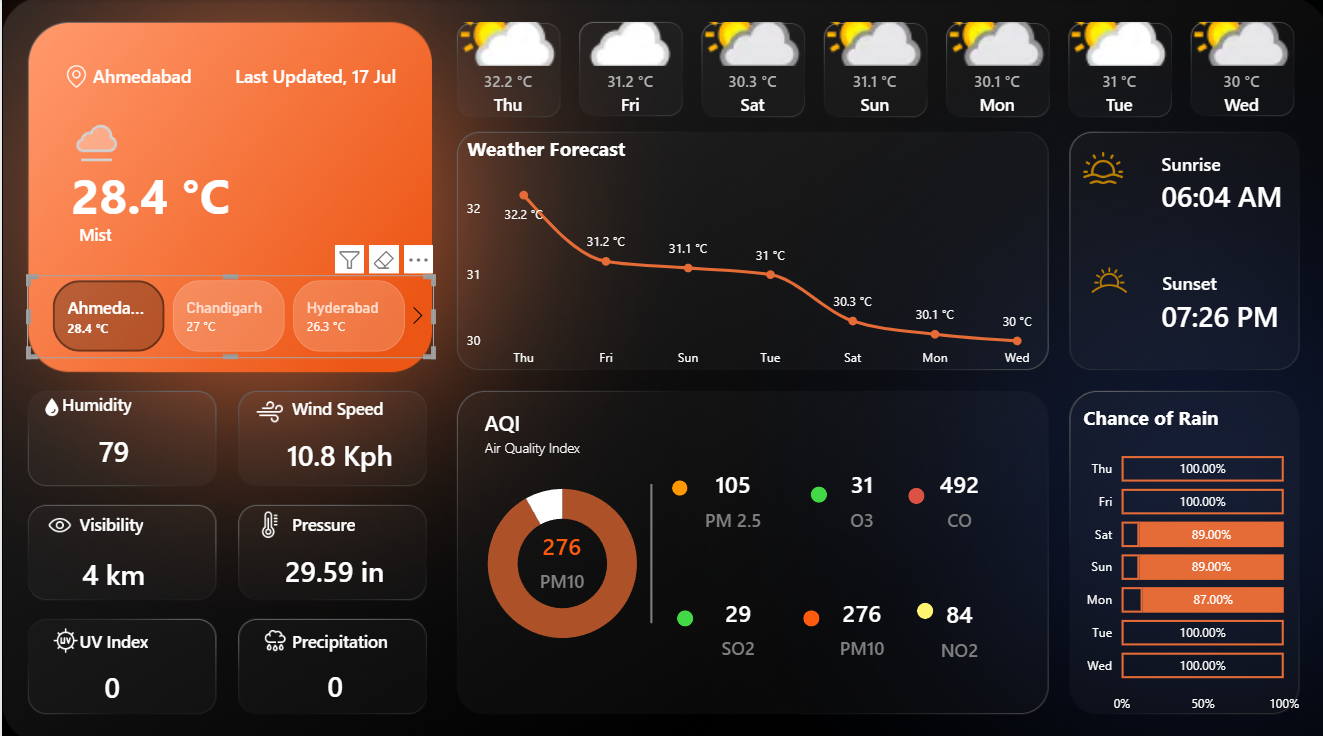

The page's visual inventory and layout, read from the dashboard file:
{"tool":"powerbi","page":{"name":"Page 1","canvas":[1280,720],"ordinal":0},"visuals":[{"type":"advancedSlicerVisual","fields":{"Values":["Locations.location.name"]},"box":[24.7,266.2,392.5,79.6],"z":0},{"type":"shape","box":[61.4,150,195.7,77.1],"z":1000},{"type":"shape","box":[71.4,205.7,314.3,41.4],"z":2000},{"type":"shape","box":[84.3,52.9,111.4,41.4],"z":3000},{"type":"image","box":[48.6,58.6,47.1,31.4],"z":4000},{"type":"shape","box":[221.4,52.9,164.3,41.4],"z":5000},{"type":"cardVisual","fields":{"Data":["Min(Current.current.condition.icon)"]},"box":[24.3,67.1,120,138.6],"z":6000},{"type":"image","box":[32.9,380,31.4,28.6],"z":7000},{"type":"shape","box":[55.7,374.3,88.6,34.3],"z":8000},{"type":"image","box":[240,380,37.1,37.1],"z":9000},{"type":"image","box":[38.6,490,34.3,35.7],"z":10000},{"type":"image","box":[240,490,37.1,35.7],"z":11000},{"type":"image","box":[38.6,601.4,45.7,34.3],"z":12000},{"type":"image","box":[240,601.4,47.1,34.3],"z":13000},{"type":"shape","box":[72.9,490,88.6,34.3],"z":14000},{"type":"shape","box":[277.1,377.1,108.6,34.3],"z":15000},{"type":"shape","box":[277.1,490,88.6,34.3],"z":16000},{"type":"shape","box":[72.9,601.4,88.6,34.3],"z":17000},{"type":"shape","box":[277.1,601.4,108.6,34.3],"z":18000},{"type":"cardVisual","fields":{"Data":["Sum(Current.current.humidity)"]},"box":[72.9,391.4,71.4,81.4],"z":19000},{"type":"cardVisual","fields":{"Data":["_Measures.Wind_Speed"]},"box":[257.1,394.3,138.6,81.4],"z":20000},{"type":"cardVisual","fields":{"Data":["Sum(Current.current.precip_mm)"]},"box":[277.1,617.1,88.6,81.4],"z":21000},{"type":"cardVisual","fields":{"Data":["Sum(Current.current.uv)"]},"box":[68.6,618.6,75.7,81.4],"z":22000},{"type":"cardVisual","fields":{"Data":["_Measures.Pressure"]},"box":[251.4,507.1,140,81.4],"z":23000},{"type":"cardVisual","fields":{"Data":["_Measures.Visibility"]},"box":[55.7,508.6,104.3,81.4],"z":24000},{"type":"lineChart","title":"Weather Forecast","fields":{"Category":["Forecast_Day.Day_Name"],"Y":["Sum(Forecast_Day.forecast.forecastday.day.avgtemp_c)"]},"box":[444.3,131.4,572.9,232.9],"z":25000},{"type":"advancedSlicerVisual","fields":{"Values":["Forecast_Day.Day_Name"]},"box":[428.6,15.7,828.6,101.4],"z":26000},{"type":"shape","box":[1115.7,137.1,100,41.4],"z":27000},{"type":"shape","box":[1115.7,168.6,125.7,41.4],"z":28000},{"type":"shape","box":[1115.7,284.3,125.7,41.4],"z":29000},{"type":"shape","box":[1115.7,247.1,100,52.9],"z":30000},{"type":"image","box":[1038.6,244.3,60,55.7],"z":31000},{"type":"image","box":[1038.6,137.1,48.6,51.4],"z":32000},{"type":"hundredPercentStackedBarChart","title":"Chance of Rain","fields":{"Y":["Current.Left_Value_Rain","Sum(Forecast_Day.forecast.forecastday.day.daily_chance_of_rain)"],"Category":["Forecast_Day.Day_Name"]},"box":[1038.6,391.4,218.6,307.1],"z":33000},{"type":"shape","box":[462.9,391.4,108.6,34.3],"z":34000},{"type":"shape","box":[462.9,415.7,108.6,34.3],"z":35000},{"type":"cardVisual","fields":{"Data":["Sum(Current.current.air_quality.co)"]},"box":[882.9,435.7,82.9,81.4],"z":35002},{"type":"cardVisual","fields":{"Data":["Sum(Current.current.air_quality.no2)"]},"box":[882.9,561.4,82.9,81.4],"z":35004},{"type":"cardVisual","fields":{"Data":["Sum(Current.current.air_quality.o3)"]},"box":[788.6,435.7,82.9,81.4],"z":35005},{"type":"cardVisual","fields":{"Data":["Sum(Current.current.air_quality.pm10)"]},"box":[788.6,560,82.9,81.4],"z":35006},{"type":"cardVisual","fields":{"Data":["Sum(Current.current.air_quality.pm2_5)"]},"box":[658.6,435.7,94.3,81.4],"z":35007},{"type":"cardVisual","fields":{"Data":["Sum(Current.current.air_quality.so2)"]},"box":[670,560,82.9,81.4],"z":35008},{"type":"shape","box":[647.1,464.3,15,15],"z":35009},{"type":"shape","box":[651.4,590,15.7,15.7],"z":35010},{"type":"shape","box":[780,470,15.7,15.7],"z":35011},{"type":"shape","box":[772.9,590,15.7,15.7],"z":35012},{"type":"shape","box":[874.3,471.4,15.7,15.7],"z":35013},{"type":"shape","box":[882.9,582.9,15.7,15.7],"z":35014},{"type":"shape","box":[600,468.6,54.3,134.3],"z":35015},{"type":"cardVisual","fields":{"Data":["Sum(Current.current.air_quality.pm10)"]},"box":[500,494.3,82.9,81.4],"z":35016},{"type":"donutChart","fields":{"Y":["Sum(Current.current.air_quality.pm10)","_Measures.Left_value_PM10"]},"box":[438.8,450,203.8,190],"z":35017}]}

Visuals, with their boxes in screenshot pixels (x1, y1, x2, y2), scaled from the page's 1280x720 canvas onto the 1323x736 screenshot:
advancedSlicerVisual - Locations.location.name: <bbox>26, 272, 431, 353</bbox>
shape: <bbox>63, 153, 266, 232</bbox>
shape: <bbox>74, 210, 399, 253</bbox>
shape: <bbox>87, 54, 202, 96</bbox>
image: <bbox>50, 60, 99, 92</bbox>
shape: <bbox>229, 54, 399, 96</bbox>
cardVisual - Min(Current.current.condition.icon): <bbox>25, 69, 149, 210</bbox>
image: <bbox>34, 388, 66, 418</bbox>
shape: <bbox>58, 383, 149, 418</bbox>
image: <bbox>248, 388, 286, 426</bbox>
image: <bbox>40, 501, 75, 537</bbox>
image: <bbox>248, 501, 286, 537</bbox>
image: <bbox>40, 615, 87, 650</bbox>
image: <bbox>248, 615, 297, 650</bbox>
shape: <bbox>75, 501, 167, 536</bbox>
shape: <bbox>286, 385, 399, 421</bbox>
shape: <bbox>286, 501, 378, 536</bbox>
shape: <bbox>75, 615, 167, 650</bbox>
shape: <bbox>286, 615, 399, 650</bbox>
cardVisual - Sum(Current.current.humidity): <bbox>75, 400, 149, 483</bbox>
cardVisual - _Measures.Wind_Speed: <bbox>266, 403, 409, 486</bbox>
cardVisual - Sum(Current.current.precip_mm): <bbox>286, 631, 378, 714</bbox>
cardVisual - Sum(Current.current.uv): <bbox>71, 632, 149, 716</bbox>
cardVisual - _Measures.Pressure: <bbox>260, 518, 405, 602</bbox>
cardVisual - _Measures.Visibility: <bbox>58, 520, 165, 603</bbox>
"Weather Forecast" lineChart: <bbox>459, 134, 1051, 372</bbox>
advancedSlicerVisual - Forecast_Day.Day_Name: <bbox>443, 16, 1299, 120</bbox>
shape: <bbox>1153, 140, 1257, 182</bbox>
shape: <bbox>1153, 172, 1283, 215</bbox>
shape: <bbox>1153, 291, 1283, 333</bbox>
shape: <bbox>1153, 253, 1257, 307</bbox>
image: <bbox>1073, 250, 1136, 307</bbox>
image: <bbox>1073, 140, 1124, 193</bbox>
"Chance of Rain" hundredPercentStackedBarChart: <bbox>1073, 400, 1299, 714</bbox>
shape: <bbox>478, 400, 591, 435</bbox>
shape: <bbox>478, 425, 591, 460</bbox>
cardVisual - Sum(Current.current.air_quality.co): <bbox>913, 445, 998, 529</bbox>
cardVisual - Sum(Current.current.air_quality.no2): <bbox>913, 574, 998, 657</bbox>
cardVisual - Sum(Current.current.air_quality.o3): <bbox>815, 445, 901, 529</bbox>
cardVisual - Sum(Current.current.air_quality.pm10): <bbox>815, 572, 901, 656</bbox>
cardVisual - Sum(Current.current.air_quality.pm2_5): <bbox>681, 445, 778, 529</bbox>
cardVisual - Sum(Current.current.air_quality.so2): <bbox>693, 572, 778, 656</bbox>
shape: <bbox>669, 475, 684, 490</bbox>
shape: <bbox>673, 603, 690, 619</bbox>
shape: <bbox>806, 480, 822, 496</bbox>
shape: <bbox>799, 603, 815, 619</bbox>
shape: <bbox>904, 482, 920, 498</bbox>
shape: <bbox>913, 596, 929, 612</bbox>
shape: <bbox>620, 479, 676, 616</bbox>
cardVisual - Sum(Current.current.air_quality.pm10): <bbox>517, 505, 602, 588</bbox>
donutChart - Sum(Current.current.air_quality.pm10) x _Measures.Left_value_PM10: <bbox>454, 460, 664, 654</bbox>
